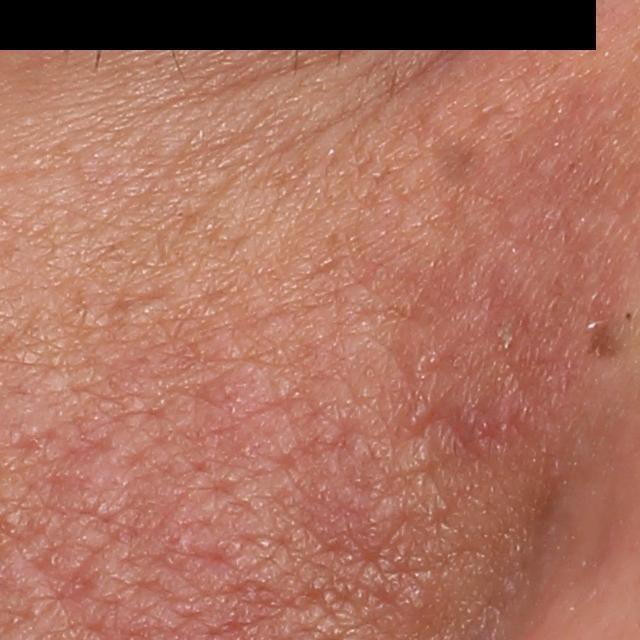nevus: (586, 316, 629, 366)
